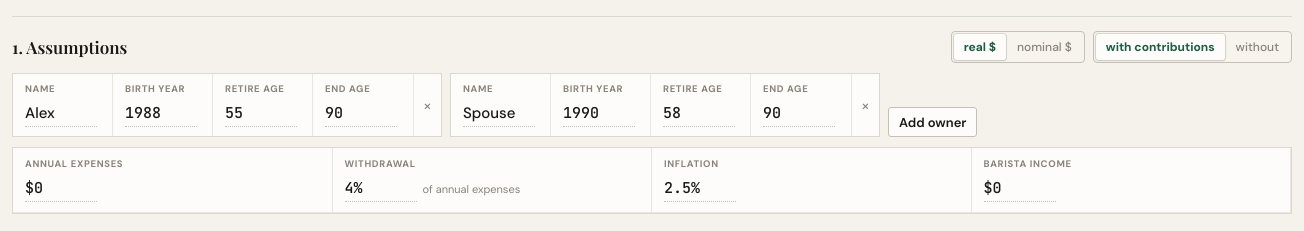
Test: AssumptionsSection — owner management › removes an owner when Remove owner is clicked (only when more than one)
Click the 2nd button "×": (865, 105) x1=851 y1=74 x2=879 y2=136
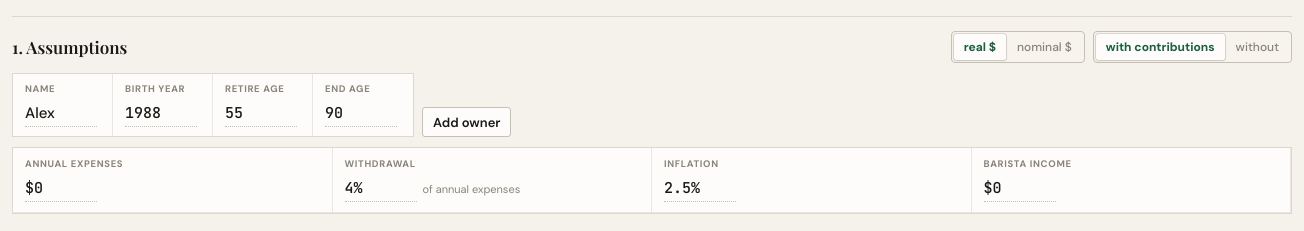
Expected: the text "Alex" is shown, x1=25 y1=101 x2=97 y2=127
Expected: the text "Spouse" is gone
